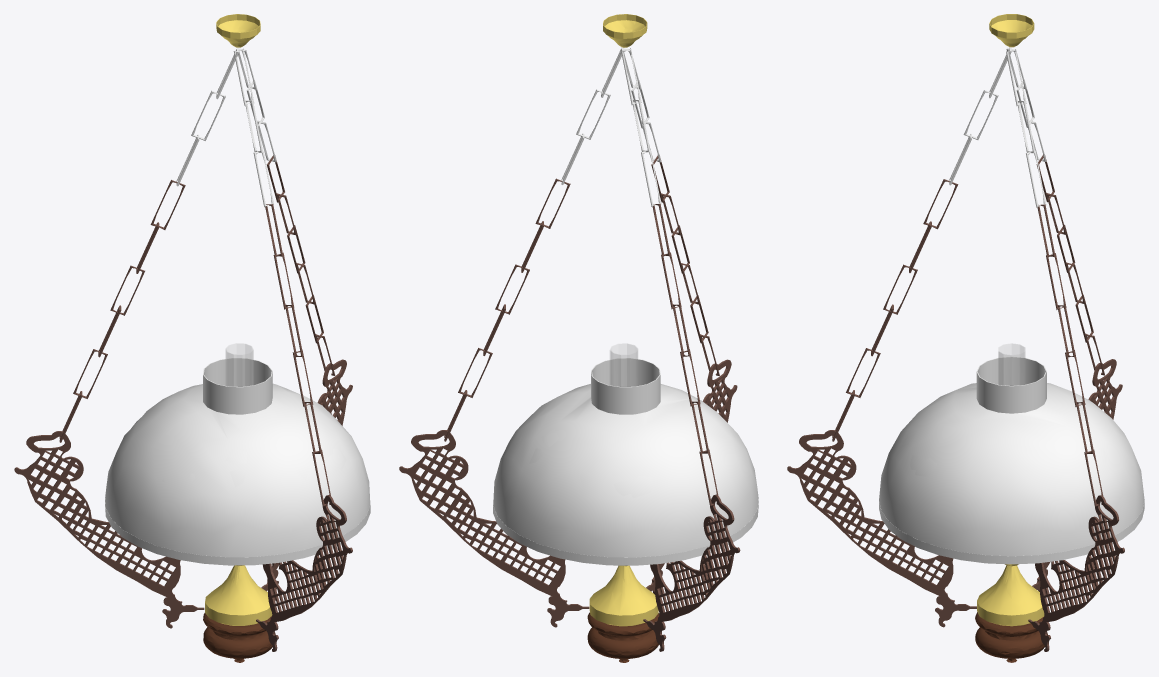
Rendered from lamp_suspend_light.obj.
3 views of the same model, side by side, from view 1: azimuth 30°, elevation 25°; view 2: azimuth 150°, elevation 25°; view 3: azimuth 270°, elevation 25° (orthographic).
Parts seen in each view (by area): view 1: Dispositi2, Dispositi1_1, Dispositiv_2, Dispositiv_3, Dispositi1, Dispositiv_4; view 2: Dispositi2, Dispositi1_1, Dispositiv_2, Dispositiv_3, Dispositi1, Dispositiv_4; view 3: Dispositi2, Dispositi1_1, Dispositiv_2, Dispositiv_3, Dispositi1, Dispositiv_4.
Part boxes in pixels (x1,y1,x2,y2): Dispositi2: [105, 358, 370, 565]; Dispositi1_1: [14, 155, 352, 651]; Dispositiv_2: [205, 14, 272, 625]; Dispositiv_3: [203, 613, 275, 662]; Dispositi1: [176, 47, 276, 207]; Dispositiv_4: [225, 343, 253, 386]; Dispositi2: [493, 358, 758, 565]; Dispositi1_1: [399, 155, 740, 651]; Dispositiv_2: [589, 14, 658, 626]; Dispositiv_3: [587, 612, 659, 662]; Dispositi1: [561, 47, 661, 206]; Dispositiv_4: [610, 343, 637, 386]; Dispositi2: [879, 356, 1144, 564]; Dispositi1_1: [787, 155, 1124, 651]; Dispositiv_2: [977, 14, 1044, 626]; Dispositiv_3: [975, 612, 1047, 662]; Dispositi1: [949, 47, 1046, 207]; Dispositiv_4: [998, 343, 1025, 385].
Size of the model in its own units: 872 by 1570 by 796.
